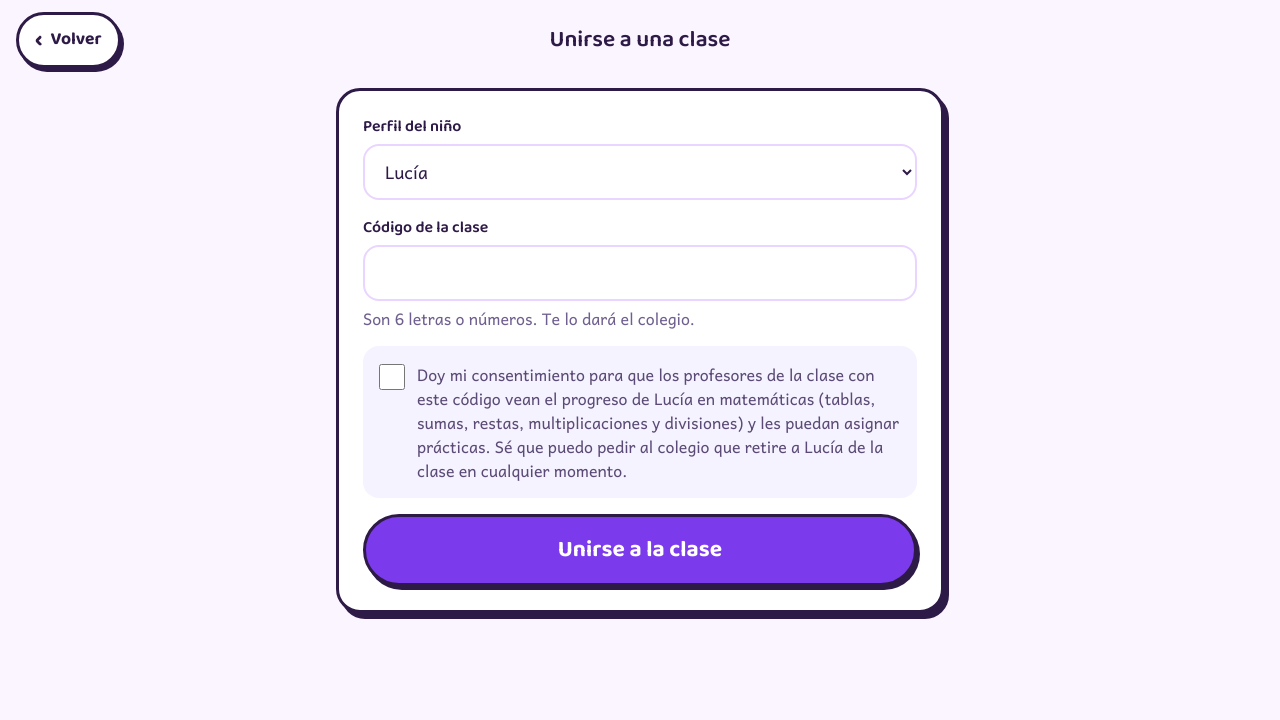
it: JoinClassScreen › does not join without the parent consent
The image size is (1280, 720).
In the field labelled "Código de la clase": (640,273) [363, 245, 917, 301], type "ab12cd"
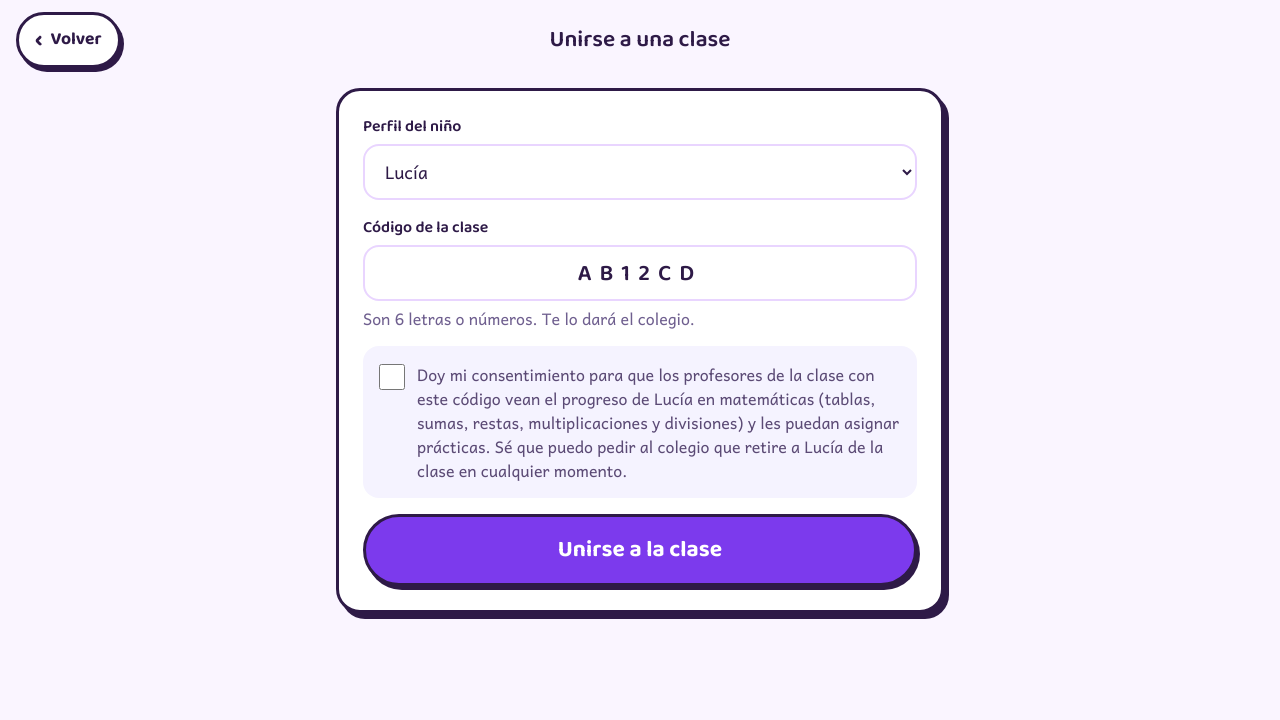
Click the button "Unirse a la clase": (640,550) [363, 514, 917, 586]
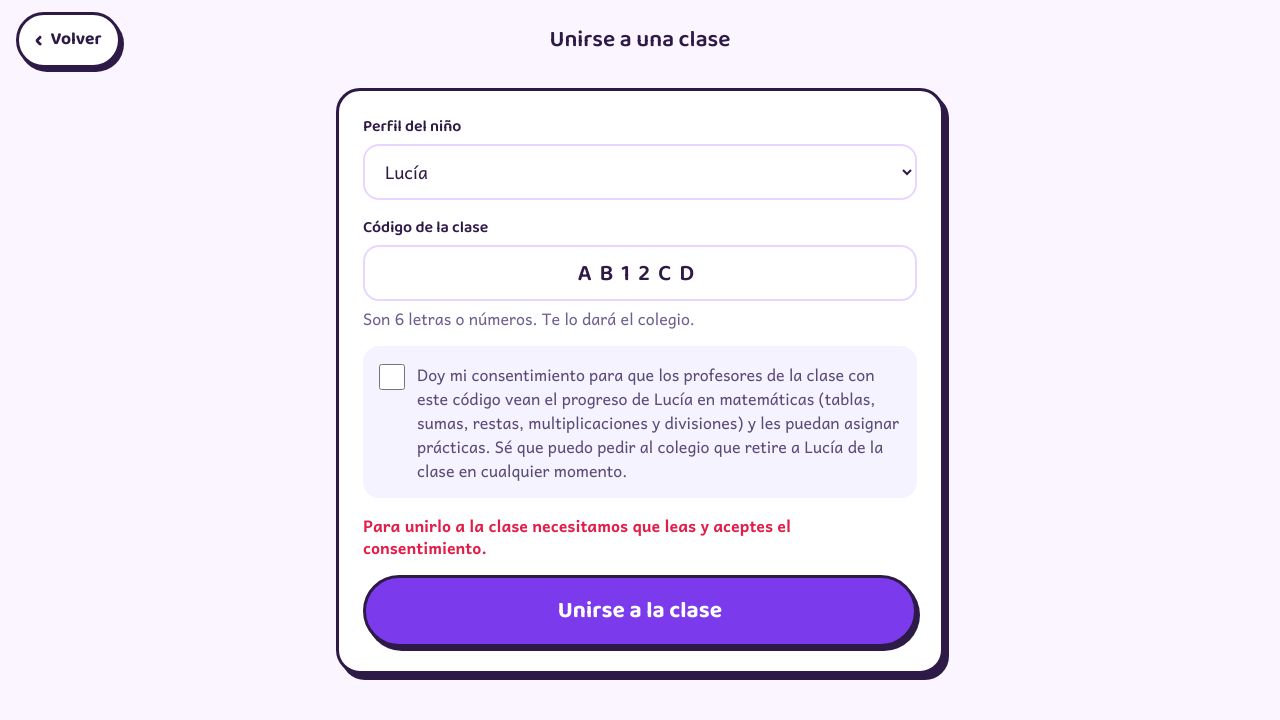
Expected: the text "Para unirlo a la clase necesitamos" is shown, [363, 512, 791, 560]
